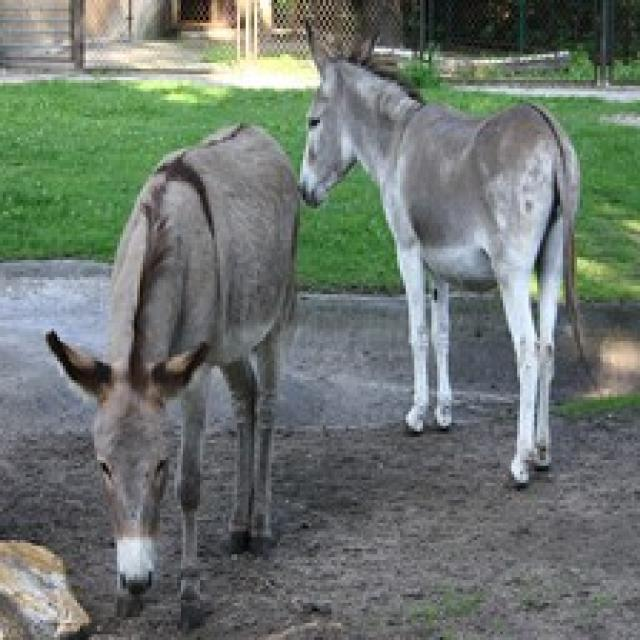Donkey: (286, 21, 624, 510), (61, 93, 318, 625)
